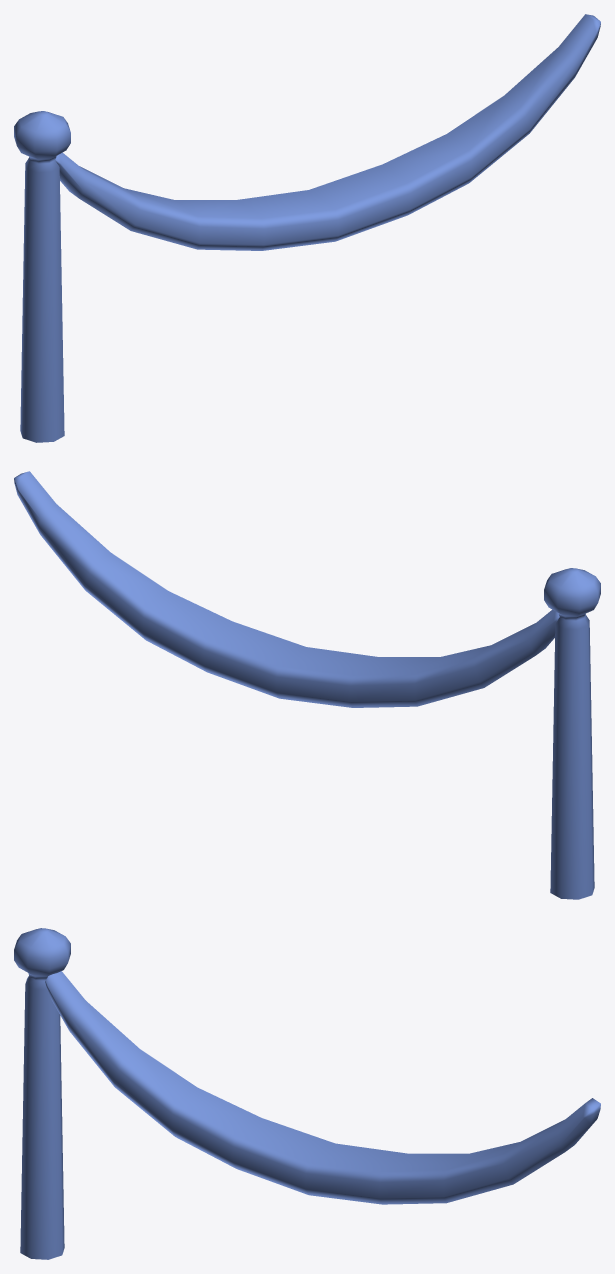
The model's file is SM_MagazineFence.fbx.
3 views of the same model, one above another, from view 1: azimuth 30°, elevation 25°; view 2: azimuth 150°, elevation 25°; view 3: azimuth 330°, elevation 25° (orthographic).
Parts seen in each view (by area): view 1: SM_MagazineFence; view 2: SM_MagazineFence; view 3: SM_MagazineFence.
Part boxes in pixels (box(x1,y1,x2,y2)): SM_MagazineFence: box(14, 14, 600, 442); SM_MagazineFence: box(14, 471, 600, 899); SM_MagazineFence: box(14, 928, 600, 1259).
Size of the model in its own units: 415 by 219 by 40.29.
